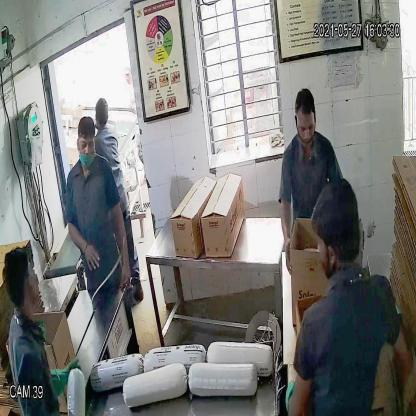no_goggles: (294, 118, 316, 139), (76, 138, 96, 154)
